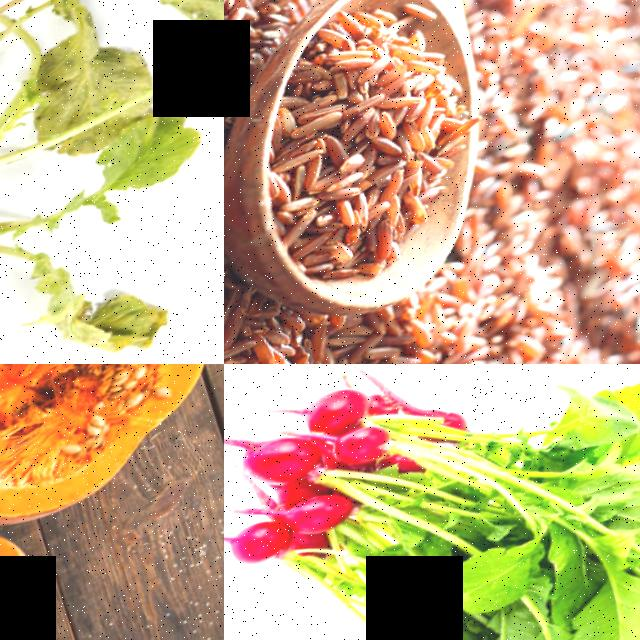pumpkin: (0, 364, 224, 565)
radishes: (224, 364, 568, 616), (0, 155, 43, 288)
red rice: (224, 0, 525, 291), (224, 81, 357, 364), (276, 258, 568, 364), (224, 0, 328, 139)
